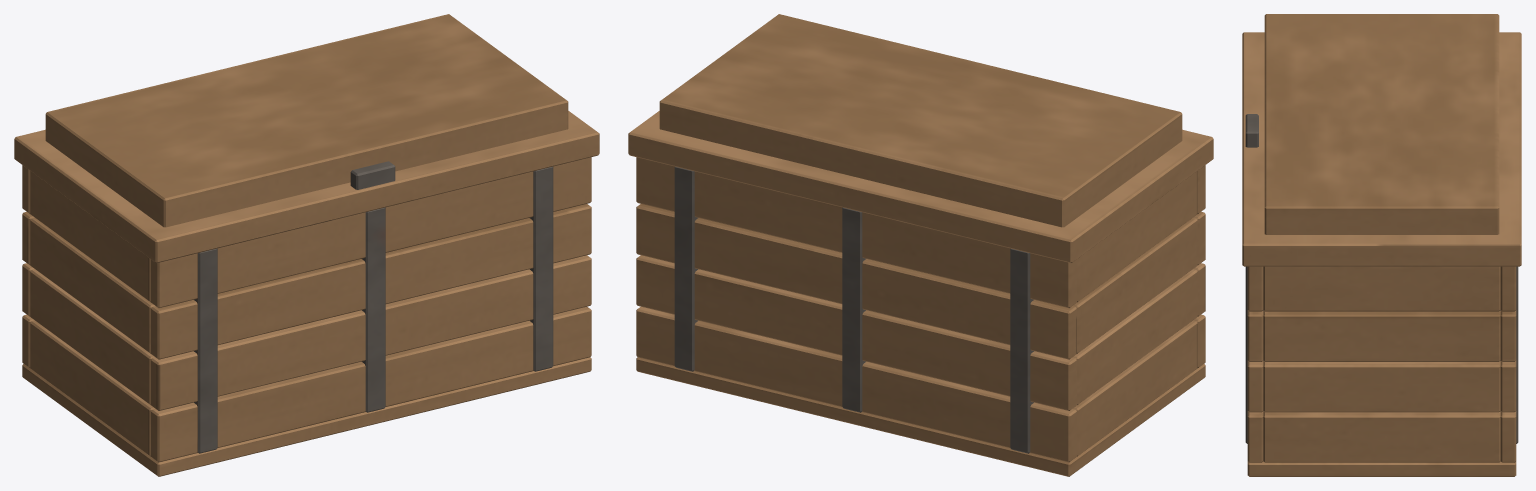
The model's file is furn_chest.glb.
The picture shows the model from 3 angles, left to right: view 1: azimuth 30°, elevation 25°; view 2: azimuth 150°, elevation 25°; view 3: azimuth 270°, elevation 25°; orthographic projection.
Parts seen in each view (by area): view 1: furn_chest; view 2: furn_chest; view 3: furn_chest.
Part boxes in pixels (x1,y1,x2,y2): furn_chest: (14,14,599,476); furn_chest: (628,14,1213,476); furn_chest: (1242,14,1521,476).
Bounding box in the file's own units: 0.9 × 0.52 × 0.5.
1 material, 1 textured.
